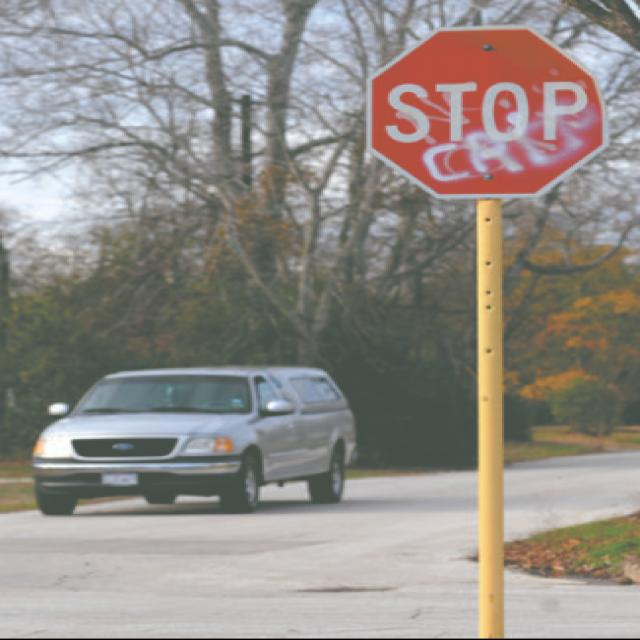stop-sign: (382, 21, 640, 216)
